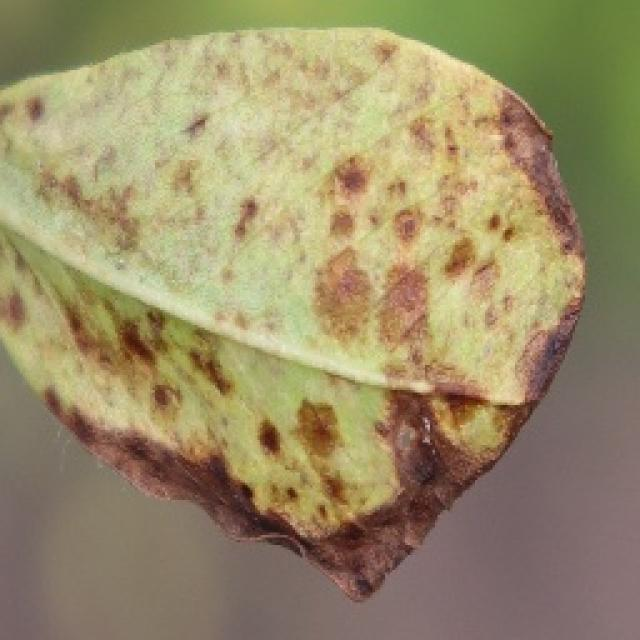Whitefly: (0, 25, 579, 579)
